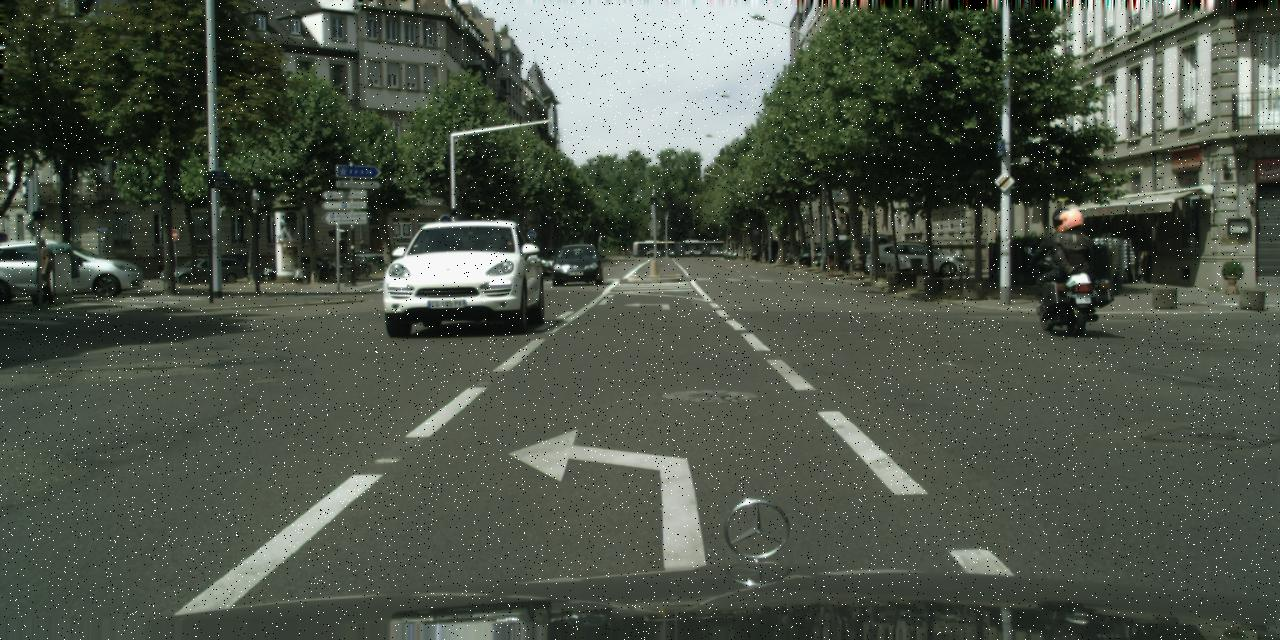ped: (1053, 204, 1099, 319), (1031, 207, 1076, 320), (29, 237, 58, 306)
